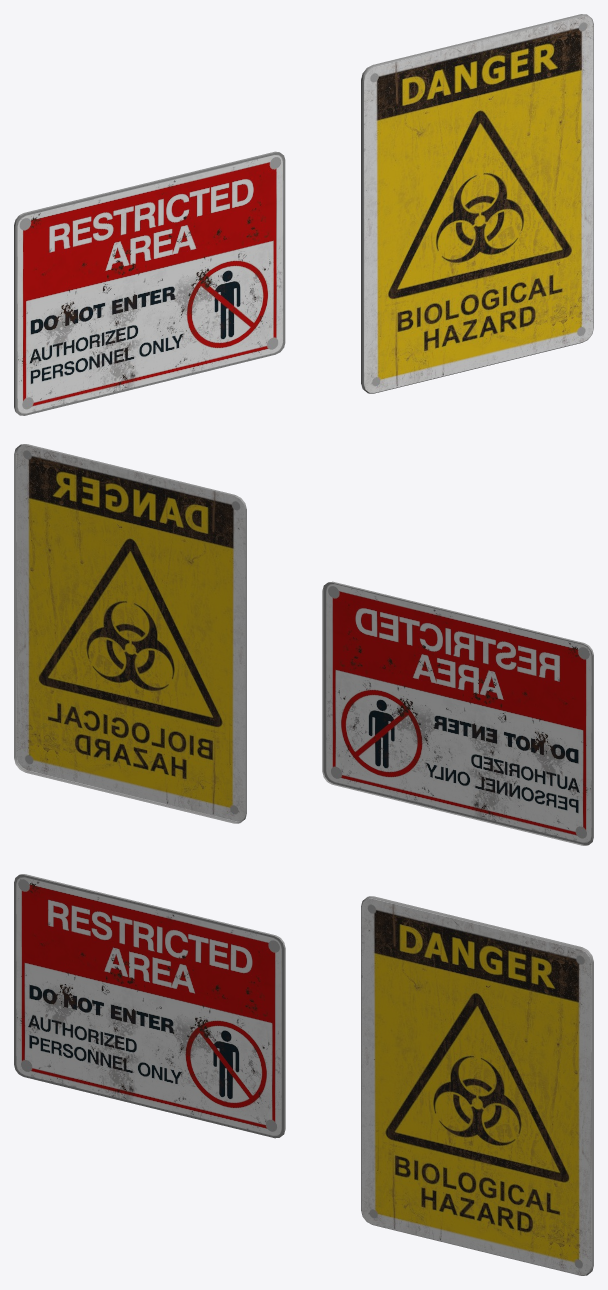
The model's file is uploads_files_5419196_CGT_signs_NakedSingularity.glb.
3 views of the same model, one above another, from view 1: azimuth 30°, elevation 25°; view 2: azimuth 150°, elevation 25°; view 3: azimuth 330°, elevation 25° (orthographic).
Visible parts, largest first — view 1: pCube1.001, pCube1; view 2: pCube1.001, pCube1; view 3: pCube1.001, pCube1.
Part boxes in pixels (x1,y1,x2,y2): pCube1.001: (361, 14, 593, 393); pCube1: (14, 151, 285, 415); pCube1.001: (14, 444, 246, 823); pCube1: (322, 581, 593, 845); pCube1.001: (361, 896, 593, 1275); pCube1: (14, 874, 285, 1138).
Bounding box in the file's own units: 0.7495 × 0.4056 × 0.00444.
Materials: 2 (2 with a texture image).
